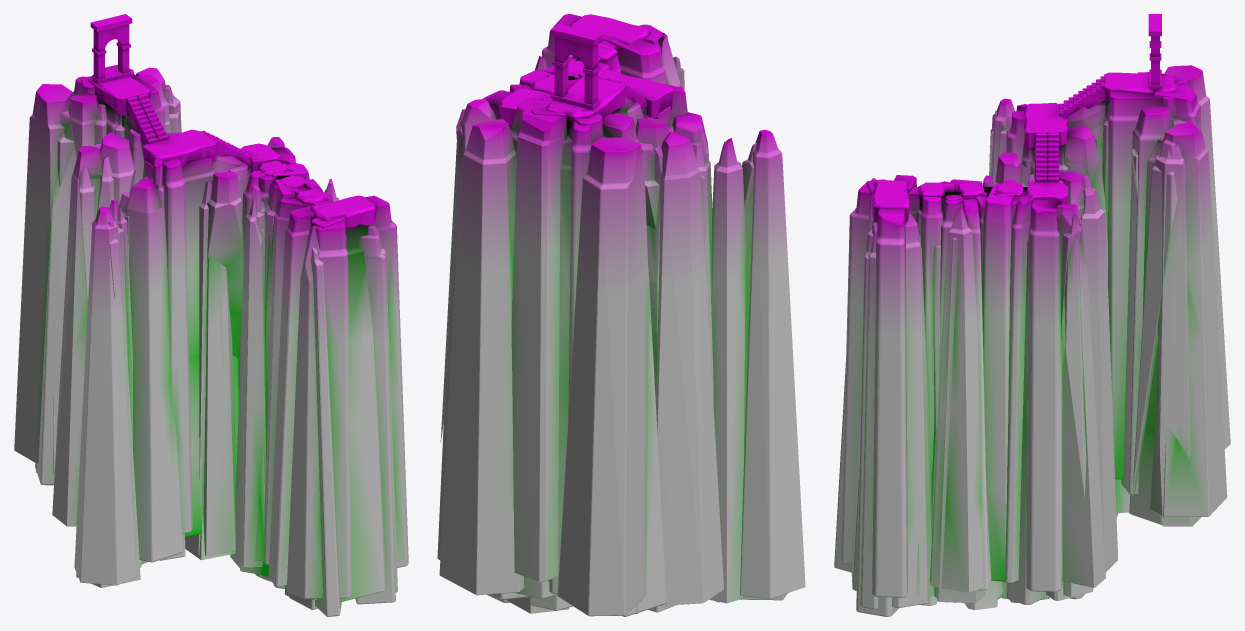
The model's file is level.glb.
3 renders of one model, left to right at view 1: azimuth 30°, elevation 25°; view 2: azimuth 150°, elevation 25°; view 3: azimuth 270°, elevation 25°, orthographic. The views are drawn at different scales.
Parts seen in each view (by area): view 1: rock, marble, riser_A_rock, riser_B_rock, riser_C_rock; view 2: rock, marble; view 3: rock, riser_C_rock, marble, riser_B_rock, riser_A_rock.
Boxes of the visible parts, left/top/right/bottom form: rock: left=14, top=64, right=408, bottom=616; marble: left=88, top=14, right=376, bottom=227; riser_A_rock: left=263, top=186, right=332, bottom=586; riser_B_rock: left=260, top=175, right=322, bottom=588; riser_C_rock: left=230, top=163, right=309, bottom=577; rock: left=437, top=14, right=805, bottom=616; marble: left=498, top=14, right=673, bottom=128; rock: left=834, top=65, right=1230, bottom=616; riser_C_rock: left=982, top=180, right=1038, bottom=600; marble: left=871, top=14, right=1175, bottom=223; riser_B_rock: left=929, top=179, right=1002, bottom=609; riser_A_rock: left=908, top=181, right=955, bottom=605.
Size of the model in its own units: 12.45 by 22.47 by 15.43.
